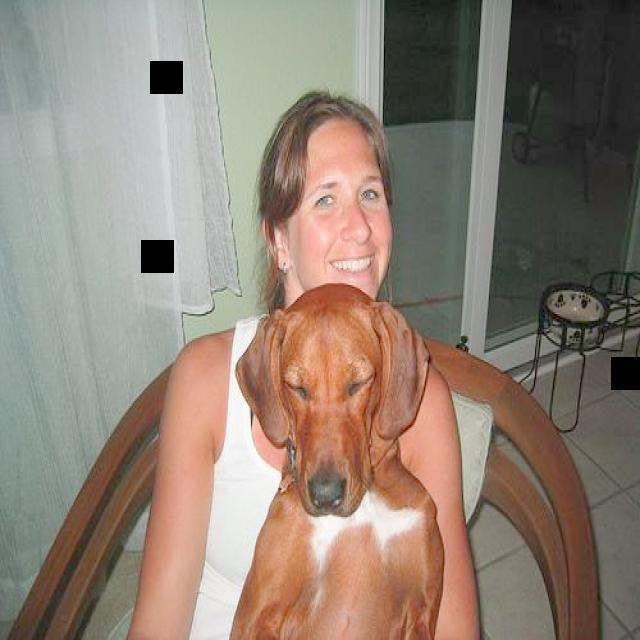adult_dog: (234, 282, 444, 640)
